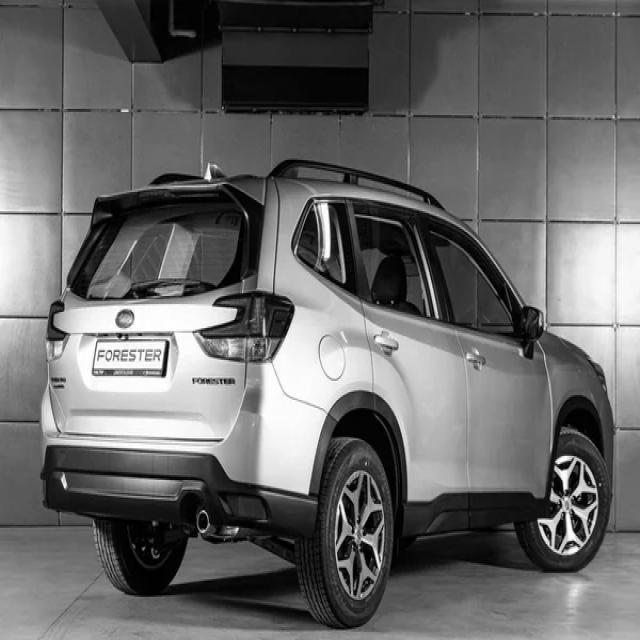Car: (39, 158, 616, 630)
